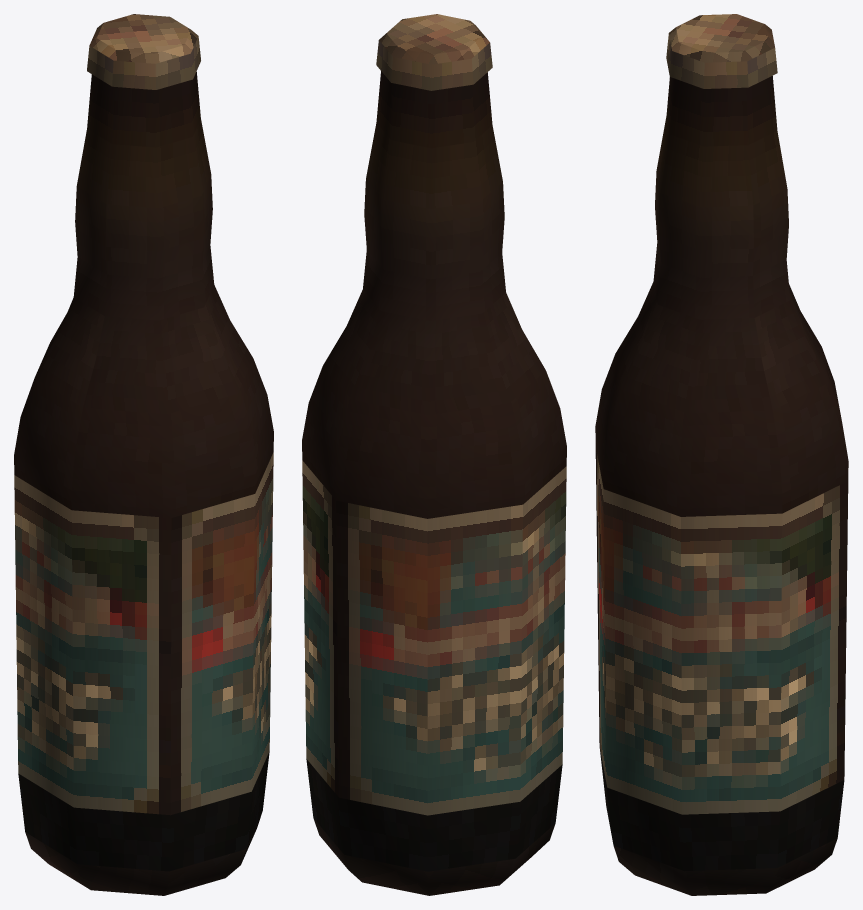
The model's file is glass_bottle_2.glb.
3 views of the same model, side by side, from view 1: azimuth 30°, elevation 25°; view 2: azimuth 150°, elevation 25°; view 3: azimuth 270°, elevation 25° (orthographic).
Parts seen in each view (by area): view 1: glass_bottle_2; view 2: glass_bottle_2; view 3: glass_bottle_2.
Part boxes in pixels (x1=…): glass_bottle_2: x1=14, y1=14, x2=273, y2=895; glass_bottle_2: x1=302, y1=14, x2=566, y2=895; glass_bottle_2: x1=595, y1=14, x2=848, y2=895.
Size of the model in its own units: 0.0986 by 0.3538 by 0.0986.
1 material, 1 textured.
